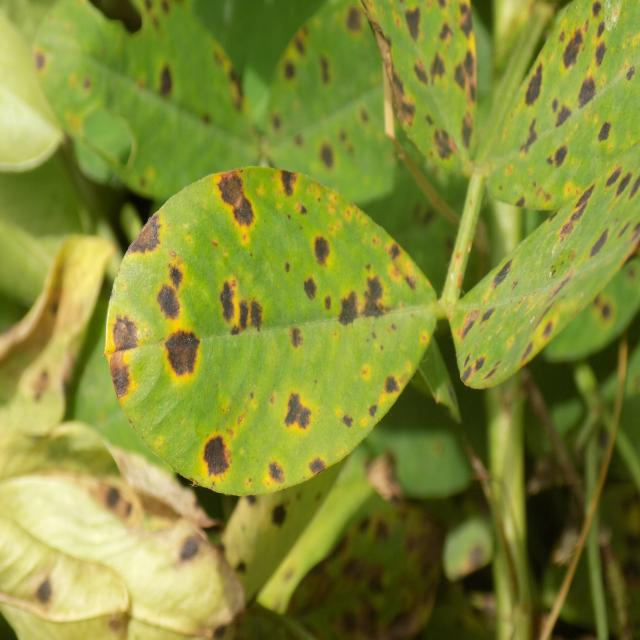Ground nut_tikka leaf spot: (105, 164, 442, 498)
